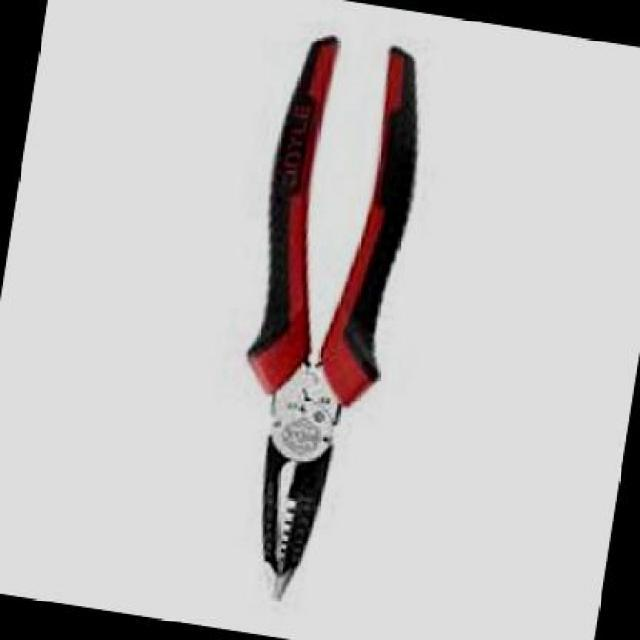pliers: (178, 0, 454, 637)
